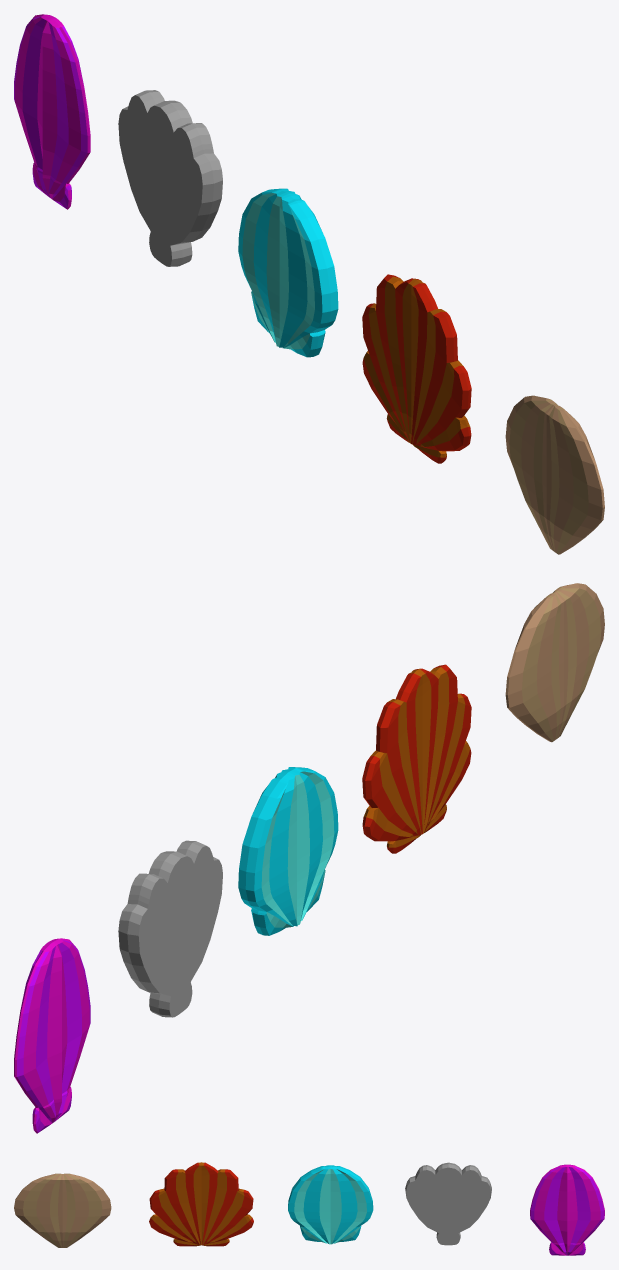
Rendered from Conchas_elementos.fbx.
3 views of the same model, one above another, from view 1: azimuth 30°, elevation 25°; view 2: azimuth 150°, elevation 25°; view 3: azimuth 270°, elevation 25° (orthographic). The views are drawn at different scales.
Visible parts, largest first — view 1: Cubo, Cubo.002, Cubo.001, Cube, Cubo.003; view 2: Cubo, Cubo.002, Cubo.001, Cube, Cubo.003; view 3: Cubo, Cubo.001, Cube, Cubo.003, Cubo.002.
Boxes of the visible parts, bbox=[...] form: Cubo: bbox=[362, 274, 471, 463]; Cubo.002: bbox=[118, 90, 222, 266]; Cubo.001: bbox=[238, 188, 338, 357]; Cube: bbox=[505, 395, 604, 554]; Cubo.003: bbox=[14, 14, 90, 209]; Cubo: bbox=[362, 664, 471, 853]; Cubo.002: bbox=[118, 840, 222, 1017]; Cubo.001: bbox=[238, 767, 338, 935]; Cube: bbox=[505, 583, 604, 742]; Cubo.003: bbox=[14, 938, 90, 1133]; Cubo: bbox=[149, 1162, 253, 1246]; Cubo.001: bbox=[288, 1165, 373, 1244]; Cube: bbox=[14, 1173, 111, 1247]; Cubo.003: bbox=[530, 1164, 604, 1255]; Cubo.002: bbox=[405, 1162, 491, 1245].
Size of the model in its own units: 39.18 by 330 by 1898.
